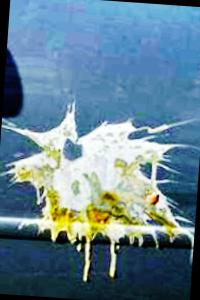Bird Poop: (8, 103, 192, 279), (146, 120, 189, 133)
